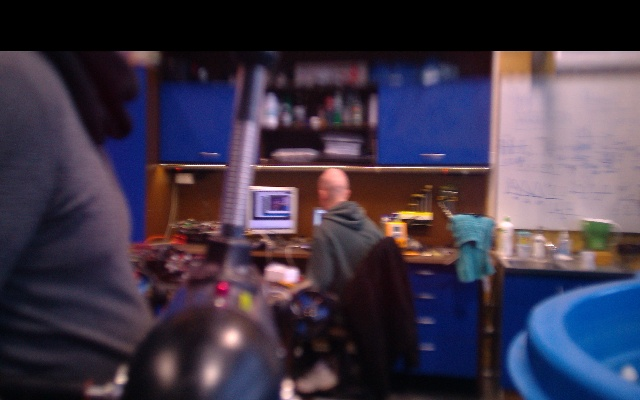black: (218, 105, 264, 246)
